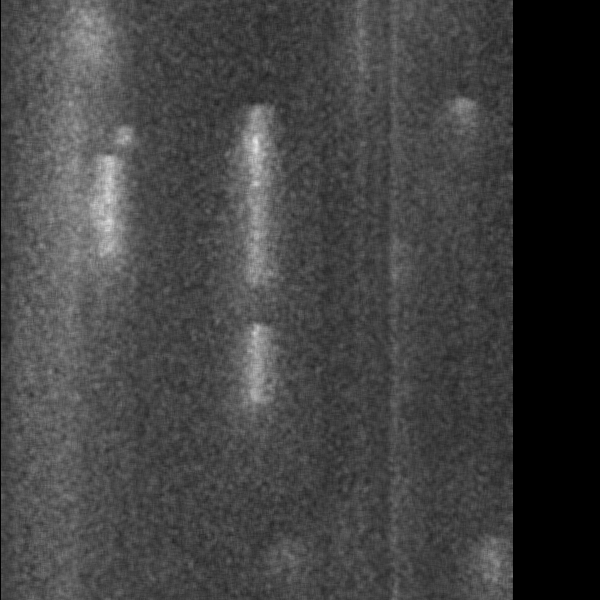spark: (64, 137, 123, 295), (237, 109, 273, 310), (438, 88, 488, 178), (20, 262, 41, 398), (471, 532, 504, 600), (51, 583, 70, 600), (54, 488, 76, 502)
